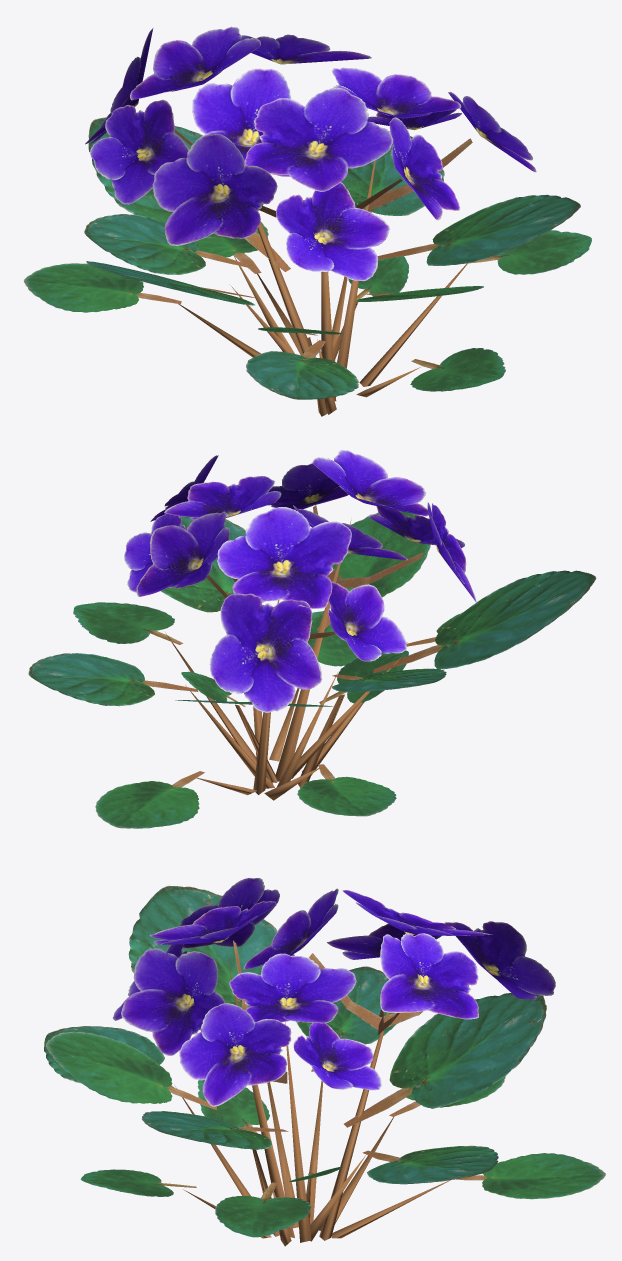
File: Saintpaulia2D.fbx
3 views of the same model, one above another, from view 1: azimuth 30°, elevation 25°; view 2: azimuth 150°, elevation 25°; view 3: azimuth 270°, elevation 25° (orthographic). The views are drawn at different scales.
Visible parts, largest first — view 1: Sainpaulia2D_LOD2; view 2: Sainpaulia2D_LOD2; view 3: Sainpaulia2D_LOD2.
Boxes of the visible parts, x1,y1,x2,y2 form: Sainpaulia2D_LOD2: [24, 26, 591, 416]; Sainpaulia2D_LOD2: [28, 450, 596, 828]; Sainpaulia2D_LOD2: [44, 878, 605, 1246].
Bounding box in the file's own units: 73.2 × 42.84 × 71.38.
